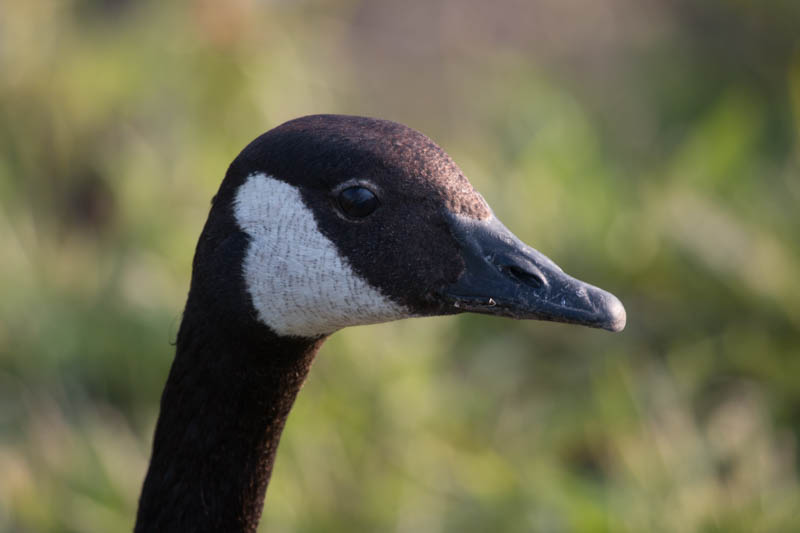goose-head: (181, 114, 624, 347)
